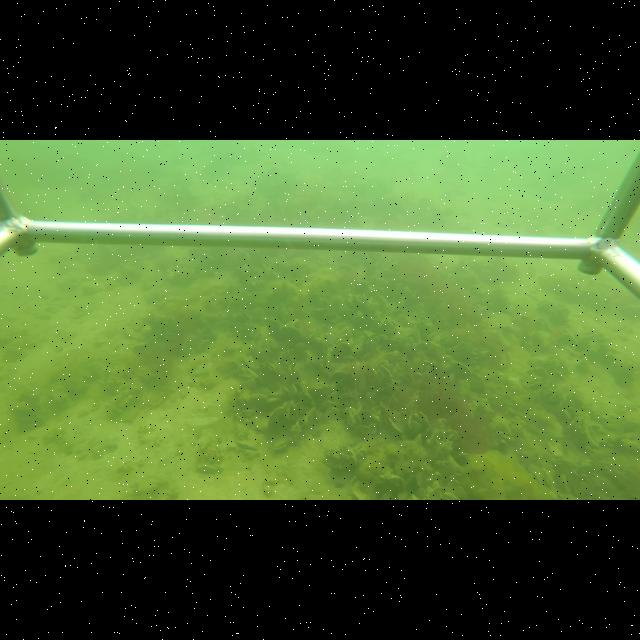Oyster-Closed: (298, 380, 317, 407), (330, 341, 353, 363), (386, 416, 402, 436)
Oyster-Open: (235, 439, 259, 456), (273, 437, 289, 452)
